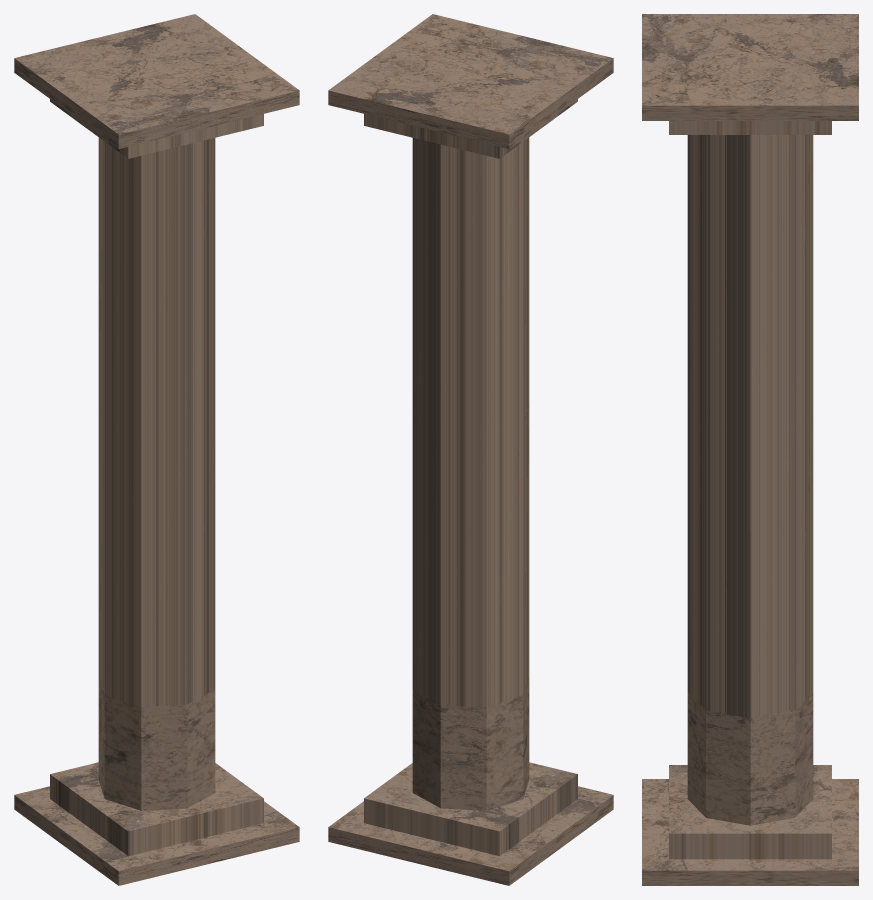
Rendered from pilar 2.fbx.
3 renders of one model, left to right at view 1: azimuth 30°, elevation 25°; view 2: azimuth 150°, elevation 25°; view 3: azimuth 270°, elevation 25°, orthographic. The views are drawn at different scales.
Visible parts, largest first — view 1: Cubo.001; view 2: Cubo.001; view 3: Cubo.001.
Boxes of the visible parts, box(x1,y1,x2,y2) form: Cubo.001: box(14, 14, 299, 885); Cubo.001: box(328, 14, 613, 885); Cubo.001: box(642, 14, 858, 885).
Size of the model in its own units: 346 by 1372 by 346.
1 material, 1 textured.
